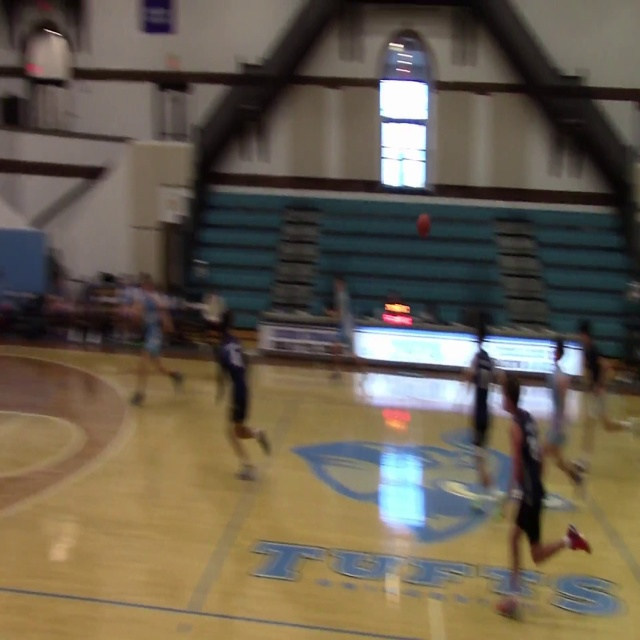Basketball: (416, 213, 431, 238)
